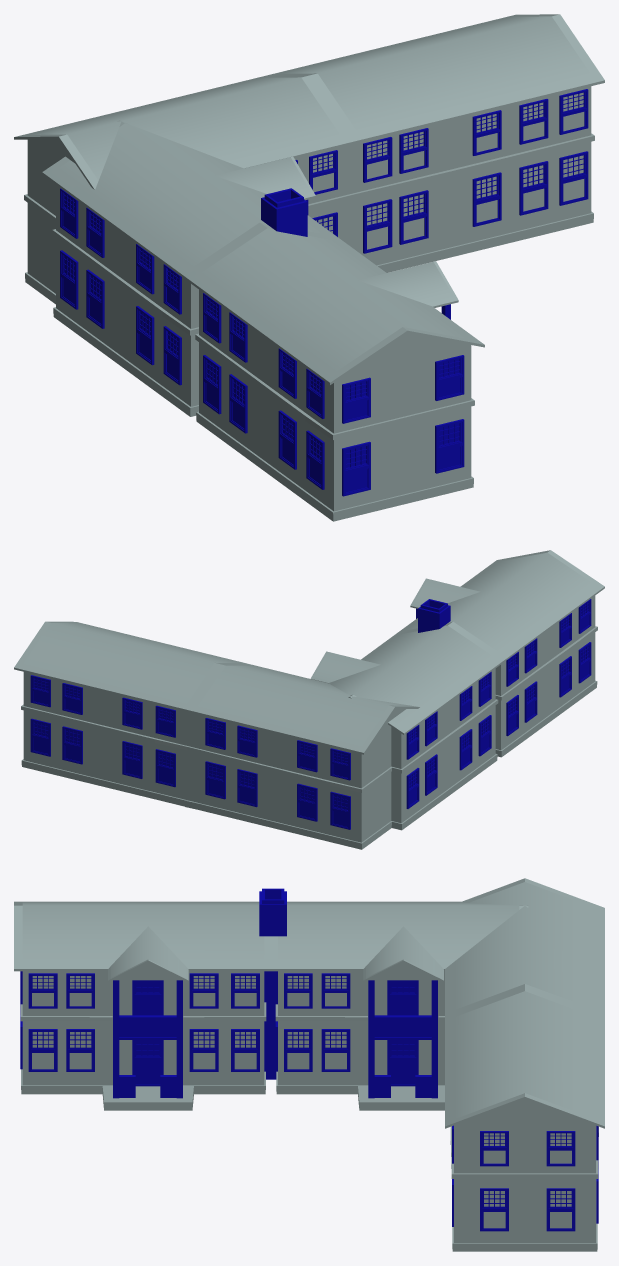
Rendered from house_v2.fbx.
The picture shows the model from 3 angles, top to bottom: view 1: azimuth 30°, elevation 25°; view 2: azimuth 150°, elevation 25°; view 3: azimuth 270°, elevation 25°; orthographic projection. The views are drawn at different scales.
Parts seen in each view (by area): view 1: Plane001, Plane004, Plane002, Plane003, teto, teto001, Box014, Box012, Box013, Box010, Box011, Box092 (+26 smaller); view 2: Plane003, Plane004, Plane001, Plane002, teto001, teto, Box014, Box081, Box077, Box063, Box085, Box067 (+19 smaller); view 3: Plane004, Plane001, Plane002, Plane003, teto, teto001, Box031, Box005, Box014, Box020, Box046, Box045 (+17 smaller).
Boxes of the visible parts, x1,y1,x2,y2 form: Plane001: (185,226,484,521); Plane004: (265,14,604,272); Plane002: (42,120,341,416); Plane003: (14,75,357,304); teto: (358,261,458,307); teto001: (215,156,315,200); Box014: (261,188,307,236); Box012: (435,419,464,473); Box013: (342,441,370,496); Box010: (435,355,464,400); Box011: (342,377,370,423); Box092: (472,172,501,226); Plane003: (184,664,419,849); Plane004: (14,621,250,806); Plane001: (397,550,604,757); Plane002: (328,623,504,830); teto001: (310,651,380,683); teto: (410,578,480,608); Box014: (418,599,450,632); Box081: (62,726,82,764); Box077: (30,718,50,756); Box063: (237,769,257,807); Box085: (155,749,175,787); Box067: (330,791,350,829); Plane004: (445,987,604,1251); Plane001: (14,901,272,1094); Plane002: (269,901,528,1094); Plane003: (445,878,604,1017); teto: (102,926,193,1110); teto001: (358,926,444,1110); Box031: (368,980,437,1098); Box005: (113,980,182,1098); Box014: (259,888,286,1079); Box020: (132,1040,163,1086); Box046: (387,1040,418,1086); Box045: (387,980,418,1015).
Bounding box in the file's own units: 1769 × 657 × 1964.
